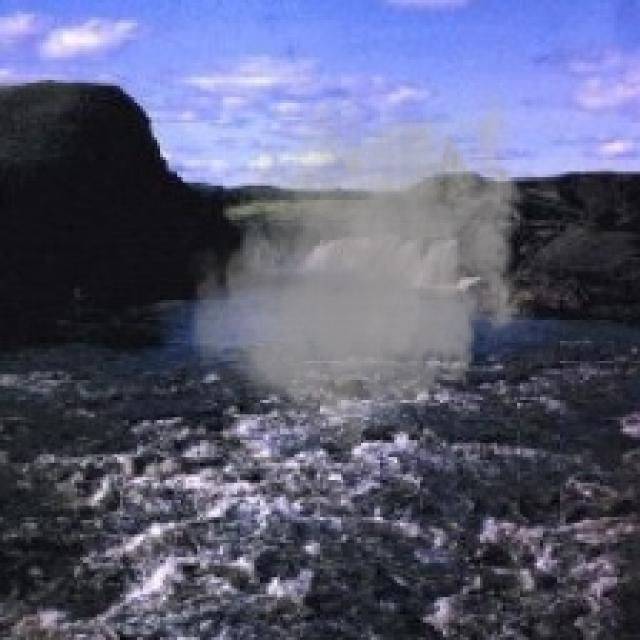smoke: (180, 80, 540, 454)
